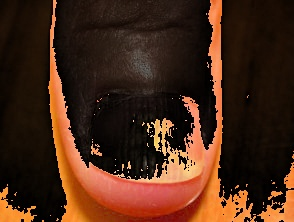Nail_psoriasis: (70, 82, 214, 182)
